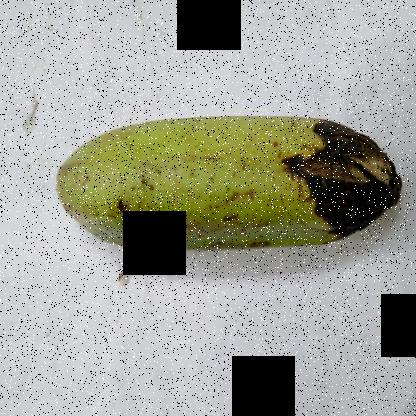rotten: (275, 106, 415, 256)
